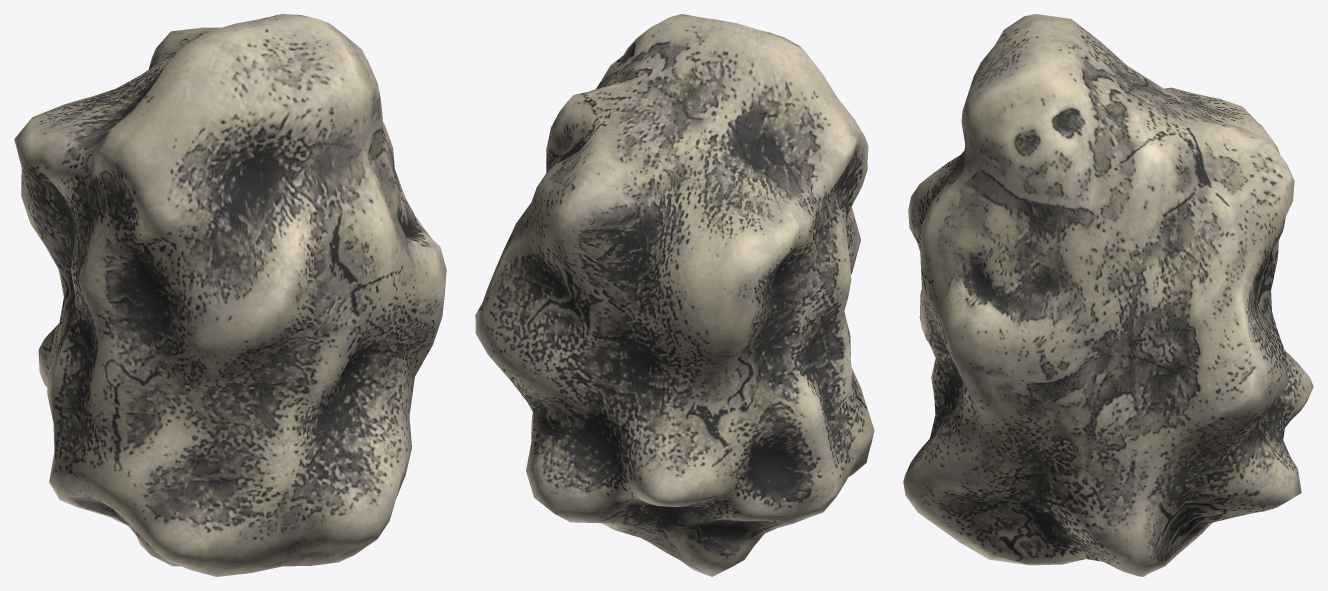
Rendered from rock6_LOD0.fbx.
The picture shows the model from 3 angles, left to right: view 1: azimuth 30°, elevation 25°; view 2: azimuth 150°, elevation 25°; view 3: azimuth 270°, elevation 25°; orthographic projection. The views are drawn at different scales.
Visible parts, largest first — view 1: rock6_LOD0; view 2: rock6_LOD0; view 3: rock6_LOD0.
Part boxes in pixels (x1,y1,x2,y2): rock6_LOD0: (14, 14, 446, 576); rock6_LOD0: (475, 14, 874, 576); rock6_LOD0: (903, 14, 1313, 576).
Size of the model in its own units: 1561 by 2468 by 1710.
Materials: 1 (1 with a texture image).
